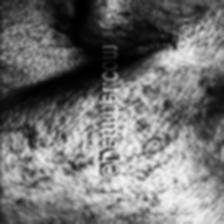Non-Cancerous Skin Condition: (121, 116, 169, 176), (122, 20, 173, 50)
